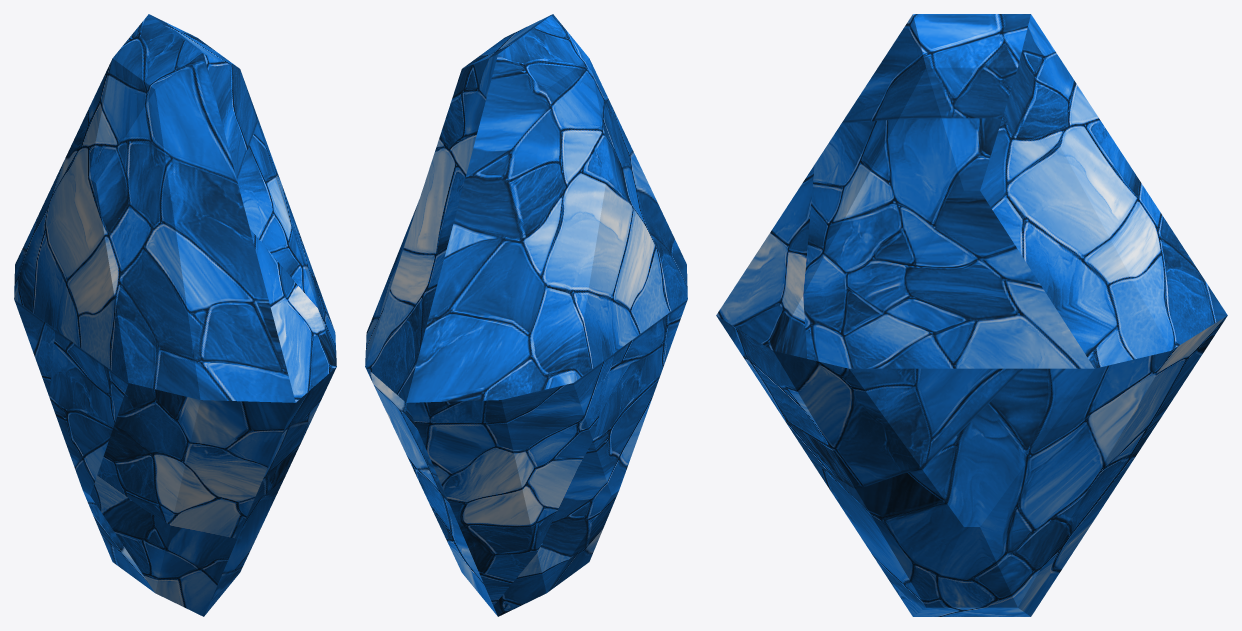
File: gemstone7Blue.glb
3 views of the same model, side by side, from view 1: azimuth 30°, elevation 25°; view 2: azimuth 150°, elevation 25°; view 3: azimuth 270°, elevation 25° (orthographic). The views are drawn at different scales.
Visible parts, largest first — view 1: gemstone6; view 2: gemstone6; view 3: gemstone6.
Part boxes in pixels (x1=…): gemstone6: x1=14, y1=14, x2=336, y2=616; gemstone6: x1=365, y1=14, x2=687, y2=616; gemstone6: x1=716, y1=14, x2=1227, y2=616.
Bounding box in the file's own units: 0.5 × 1.3 × 1.
Materials: 1 (1 with a texture image).
